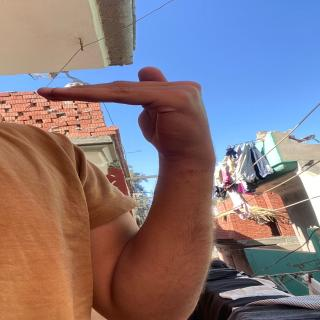KHAA: (37, 55, 235, 175)
